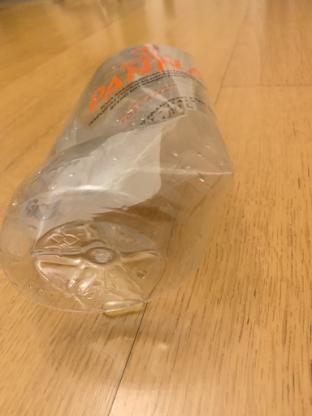Plastic Bottle: (0, 42, 234, 316)
